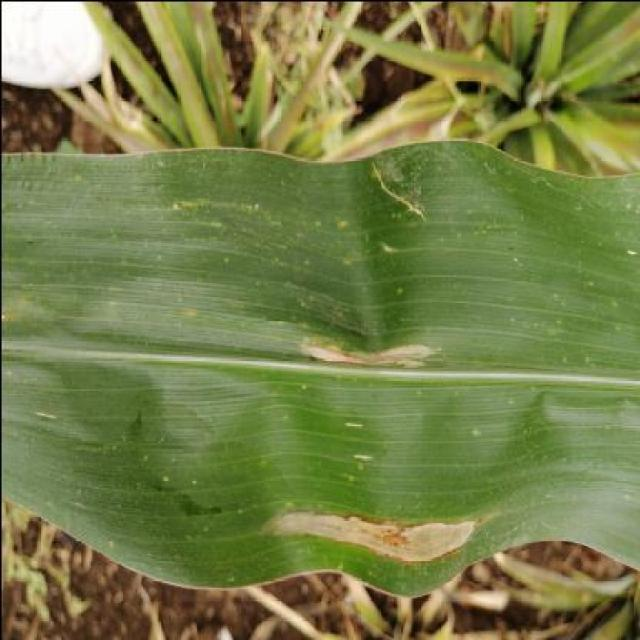Corn_Leaf_Blight: (9, 146, 640, 597)
